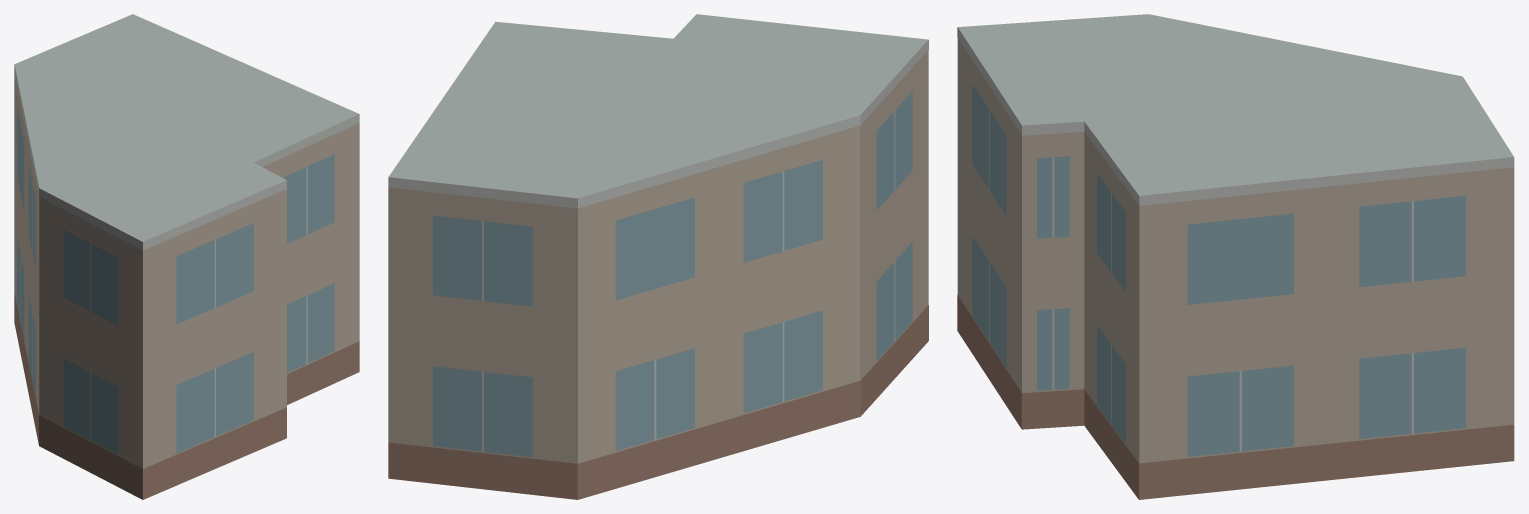
File: survey-upis-32642090.glb
The picture shows the model from 3 angles, left to right: view 1: azimuth 30°, elevation 25°; view 2: azimuth 150°, elevation 25°; view 3: azimuth 270°, elevation 25°; orthographic projection. The views are drawn at different scales.
Visible parts, largest first — view 1: survey-upis-32642090.tmp; view 2: survey-upis-32642090.tmp; view 3: survey-upis-32642090.tmp.
Part boxes in pixels (x1=…): survey-upis-32642090.tmp: x1=14, y1=14, x2=359, y2=499; survey-upis-32642090.tmp: x1=388, y1=14, x2=928, y2=499; survey-upis-32642090.tmp: x1=957, y1=14, x2=1514, y2=499.
Bounding box in the file's own units: 9.38 × 7.3 × 12.13.
